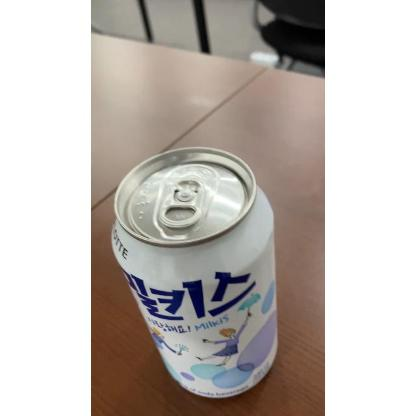Can: (110, 148, 278, 402)
